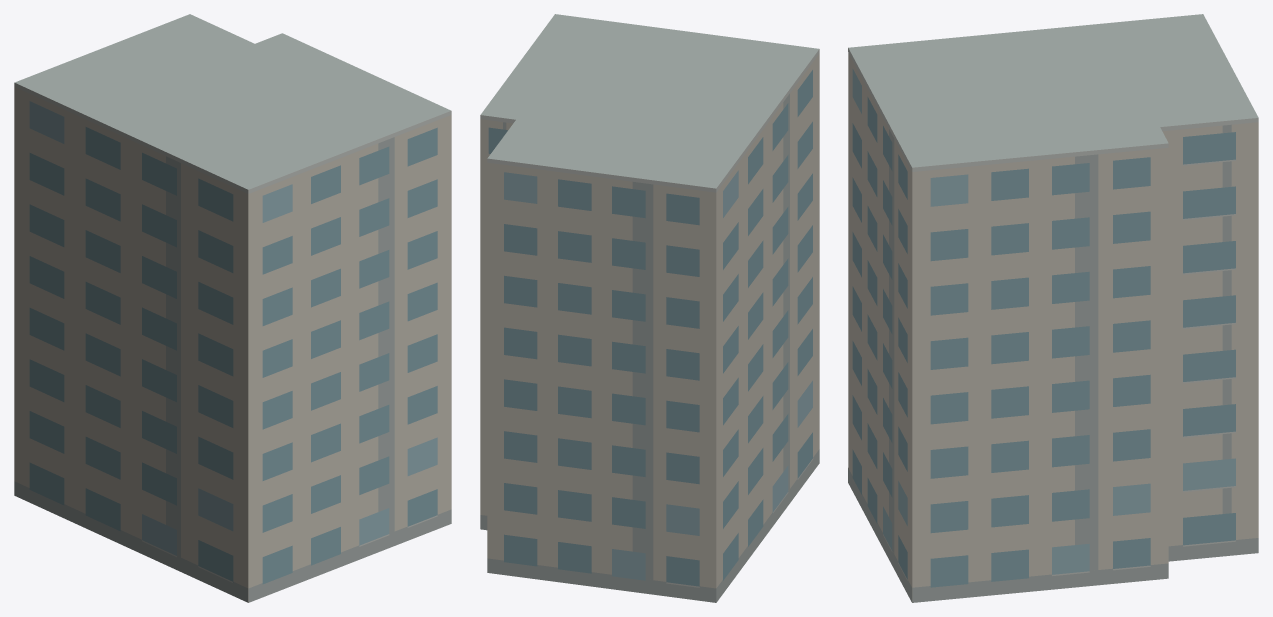
File: survey-upis-32828549.glb
The picture shows the model from 3 angles, left to right: view 1: azimuth 30°, elevation 25°; view 2: azimuth 150°, elevation 25°; view 3: azimuth 270°, elevation 25°; orthographic projection. The views are drawn at different scales.
Visible parts, largest first — view 1: survey-upis-32828549.tmp; view 2: survey-upis-32828549.tmp; view 3: survey-upis-32828549.tmp.
Part boxes in pixels (<box>): survey-upis-32828549.tmp: <box>14,14,451,602</box>; survey-upis-32828549.tmp: <box>480,14,819,602</box>; survey-upis-32828549.tmp: <box>848,14,1258,602</box>.
Bounding box in the file's own units: 18.49 × 24.4 × 20.87.
